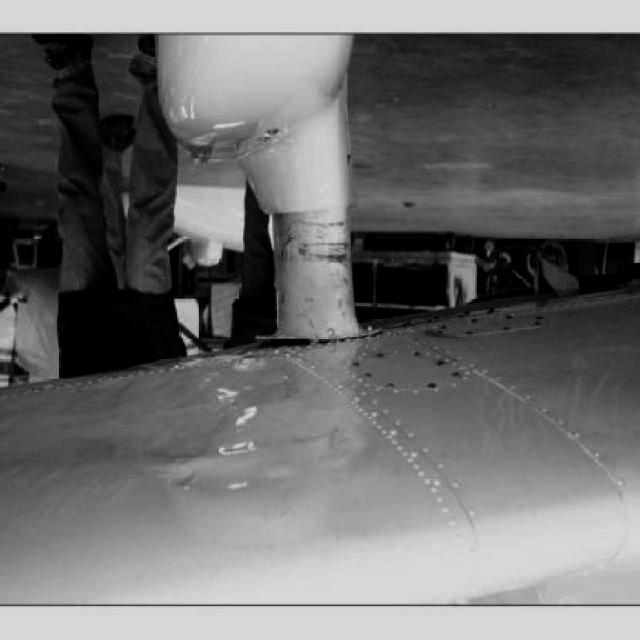dent: (179, 435, 275, 463)
